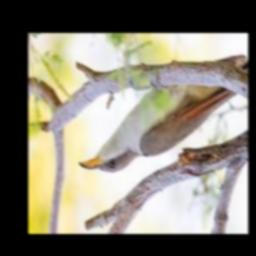Cuckoo: (79, 75, 239, 172)
